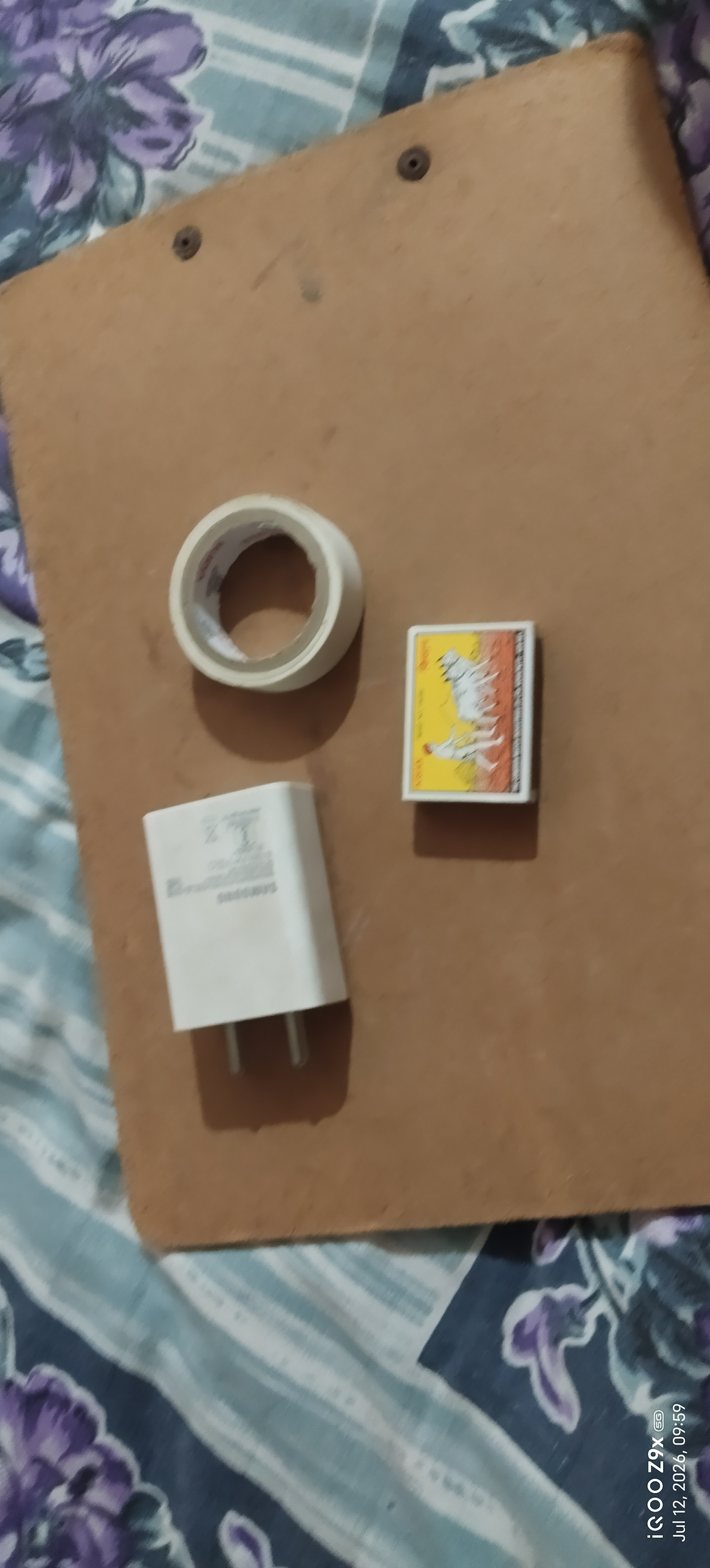charger: (129, 764, 375, 1103)
matchbox: (392, 611, 551, 824)
tape_roll: (158, 485, 376, 709)
